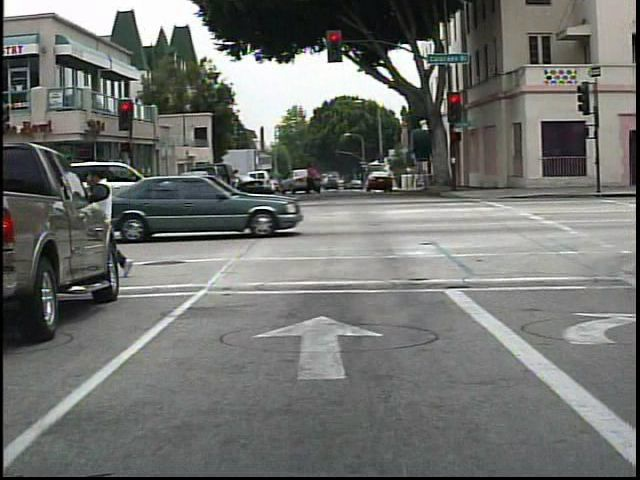person: (88, 166, 144, 279), (299, 160, 322, 194)
